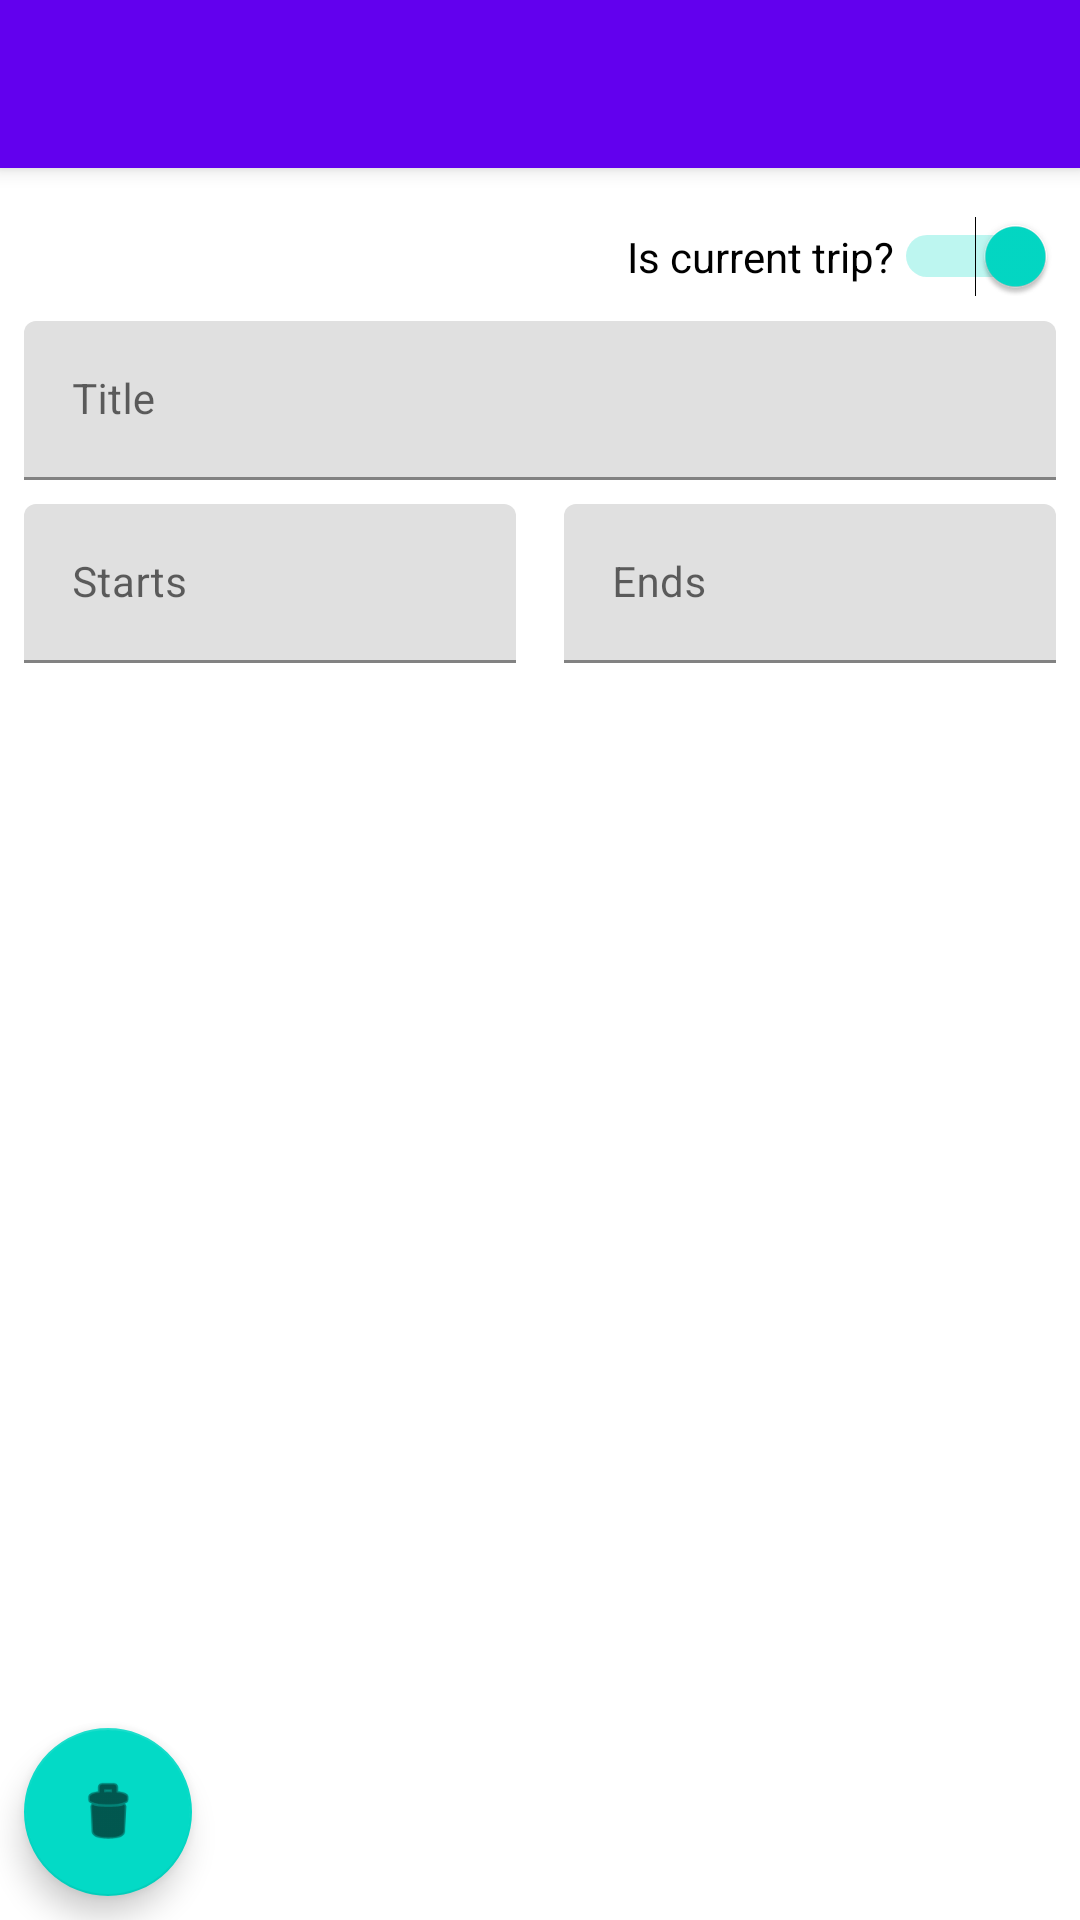

Icons on this 1080 × 1920 Android screen, each with its box as (x1, y1, x2, y2):
delete: (24, 1728, 192, 1896)
